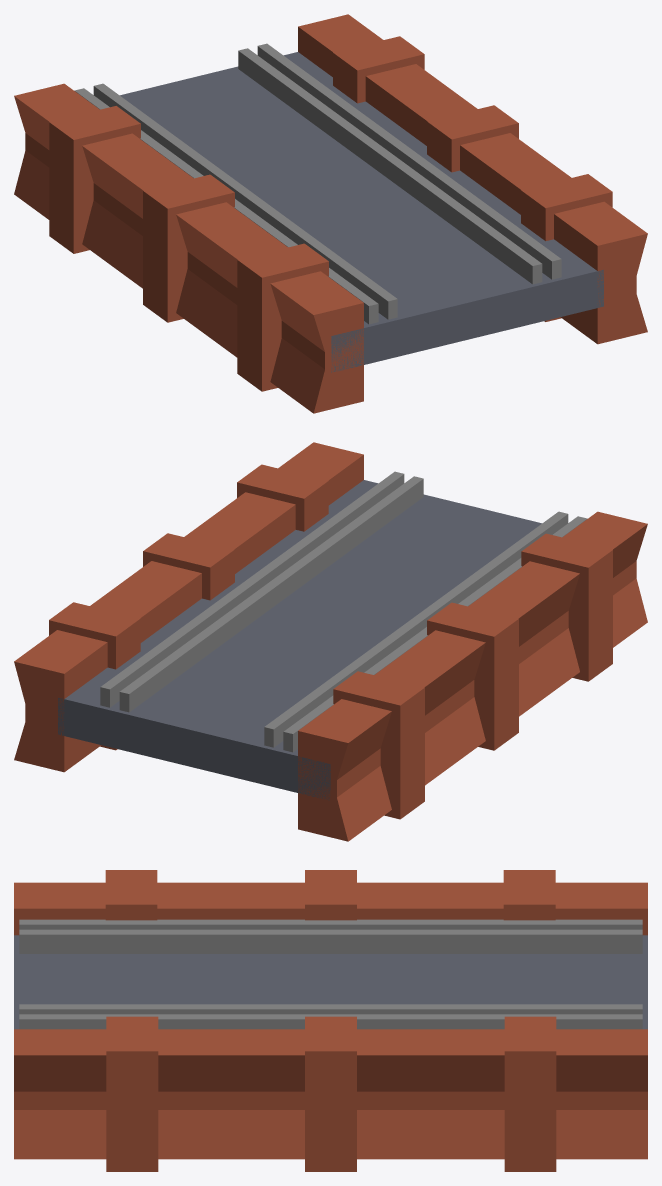
File: TrainTrack.fbx
3 renders of one model, top to bottom at view 1: azimuth 30°, elevation 25°; view 2: azimuth 150°, elevation 25°; view 3: azimuth 270°, elevation 25°, orthographic. The views are drawn at different scales.
Visible parts, largest first — view 1: pCube15; view 2: pCube15; view 3: pCube15.
Part boxes in pixels (x1=…): pCube15: x1=14, y1=14, x2=647, y2=413; pCube15: x1=14, y1=442, x2=647, y2=841; pCube15: x1=14, y1=870, x2=647, y2=1171.
Bounding box in the file's own units: 400 × 124 × 591.
